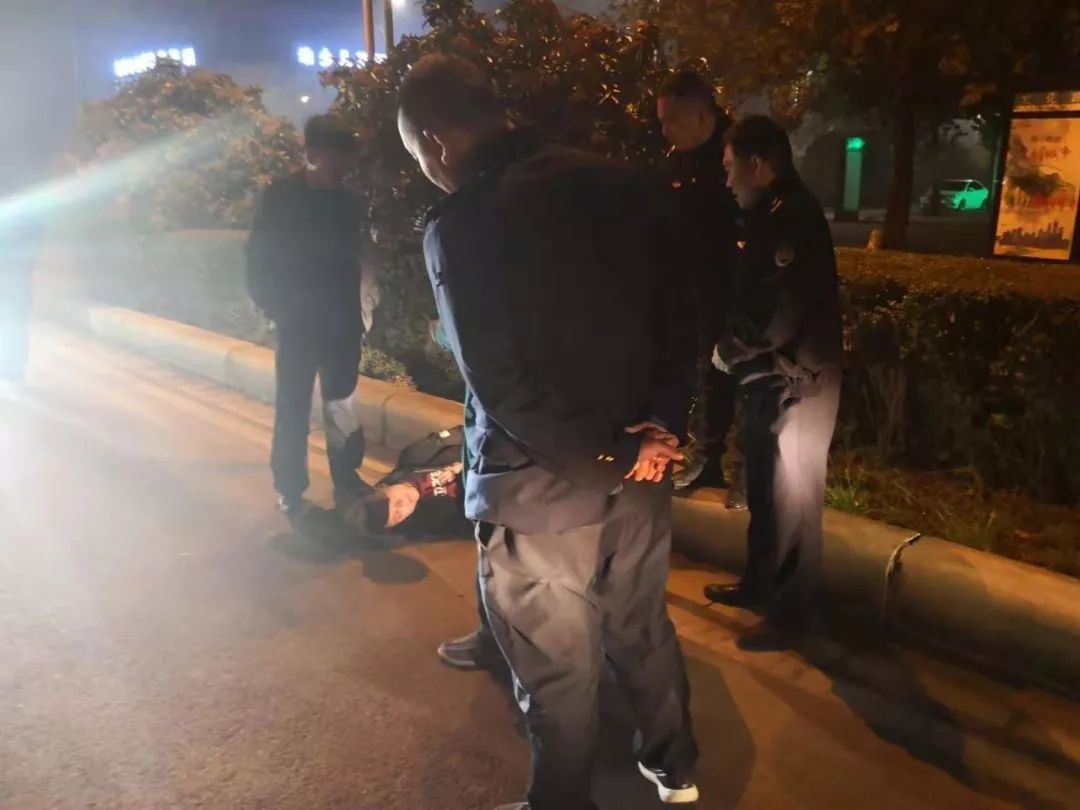falling: (341, 300, 764, 677)
